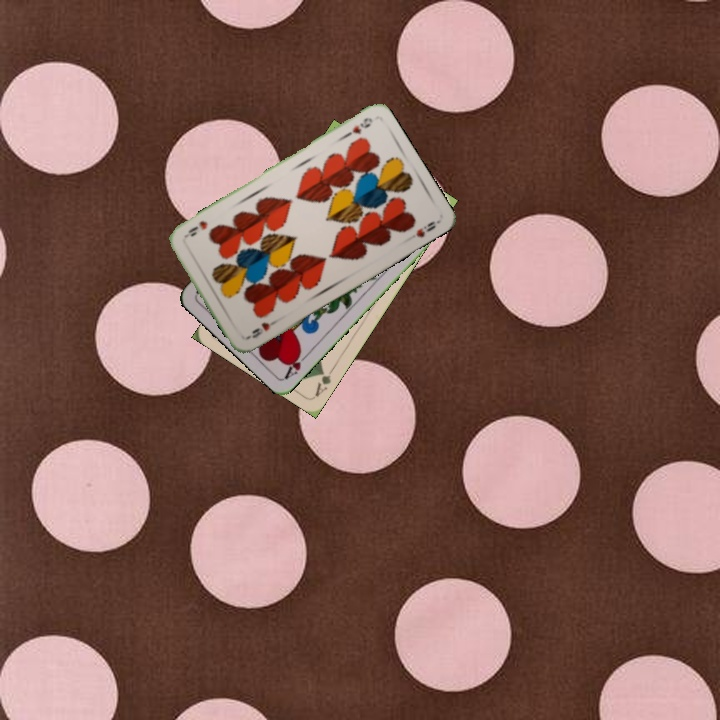GA: (310, 362, 337, 400)
H9: (243, 315, 281, 342), (340, 113, 375, 140)
HA: (280, 346, 313, 381)
